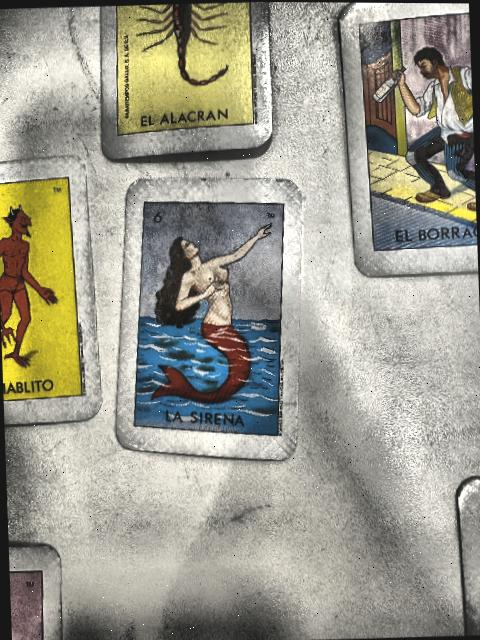La Sirena: (133, 201, 284, 436)
